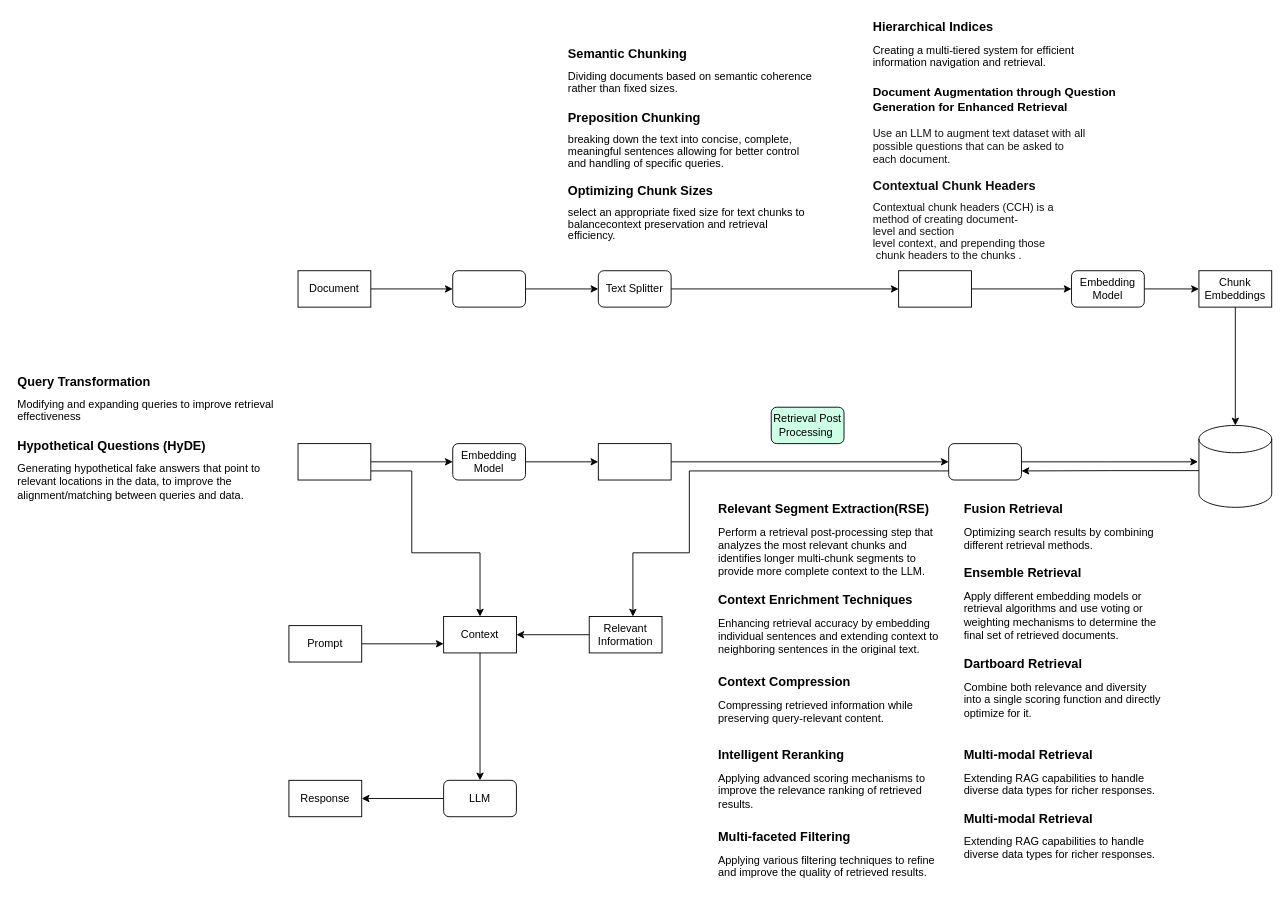
This 1288x923 diagram has some shape labels left out. The shapes that lost their labels are listed below. From the top down, each one's centre as x and y in pixels, then its label:
point (489, 288): Document Loader
point (934, 288): Text Chunks
point (334, 461): Query
point (634, 461): Query Embeddings
point (984, 461): Data Retriever
point (1235, 466): Vector Storage
